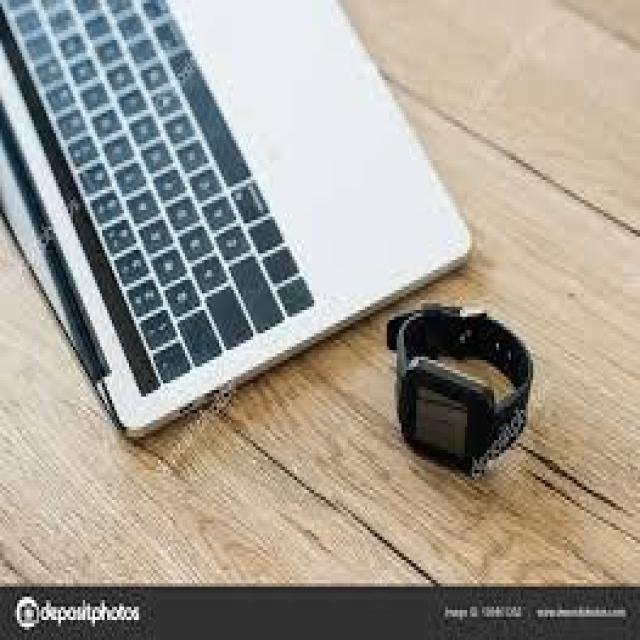laptop_computer: (94, 0, 398, 490)
watch: (384, 326, 541, 539)
